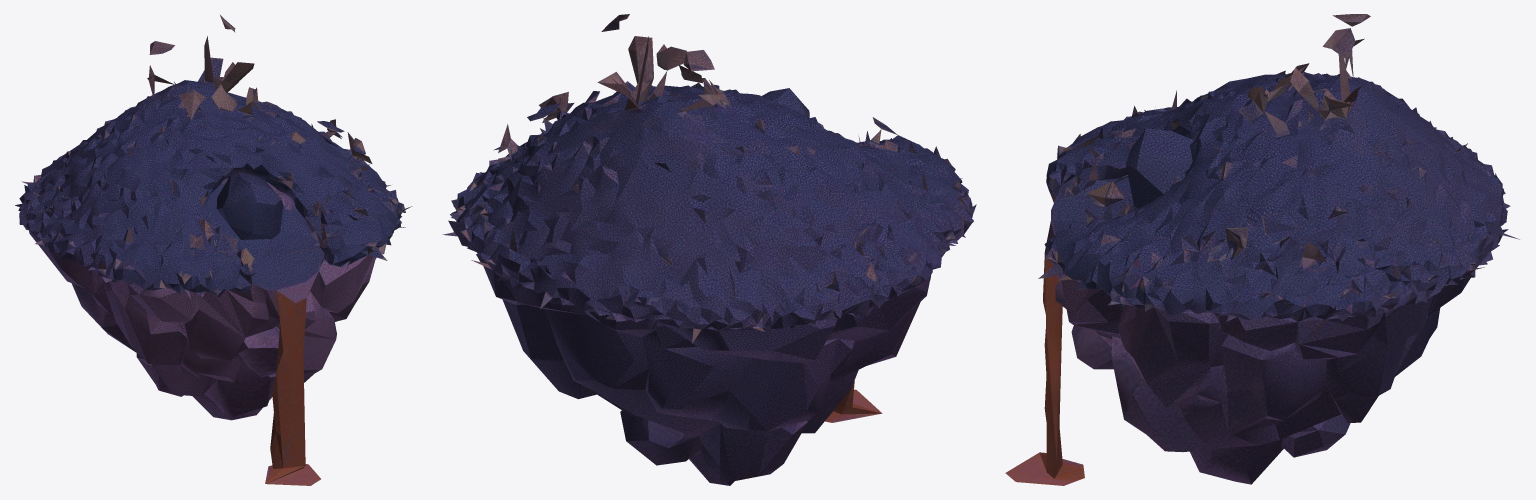
The model's file is ilha_flutuante.glb.
3 renders of one model, left to right at view 1: azimuth 30°, elevation 25°; view 2: azimuth 150°, elevation 25°; view 3: azimuth 270°, elevation 25°, orthographic. The views are drawn at different scales.
Size of the model in its own units: 1.79 by 1.88 by 1.85.
1 material, 1 textured.
